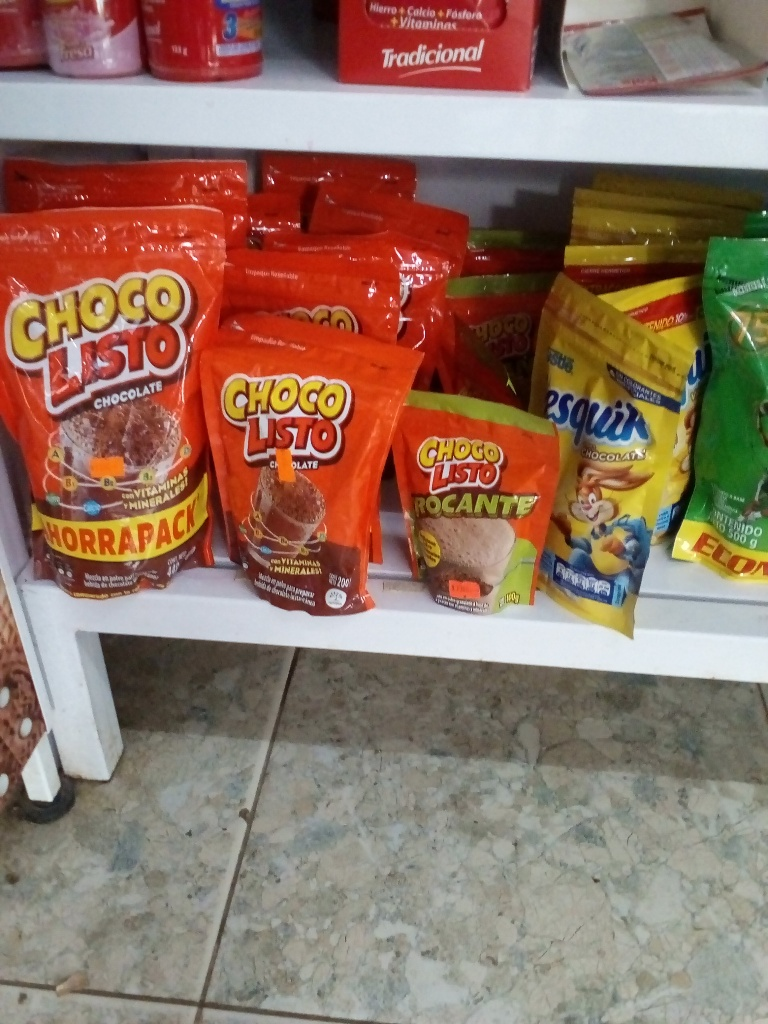COL0170102DYP10000: (393, 375, 550, 615)
COL0170103DYP20000: (207, 308, 393, 621)
COL0170103DYP44000: (1, 207, 233, 602)
COL0170303DYP20000: (513, 269, 695, 651)
